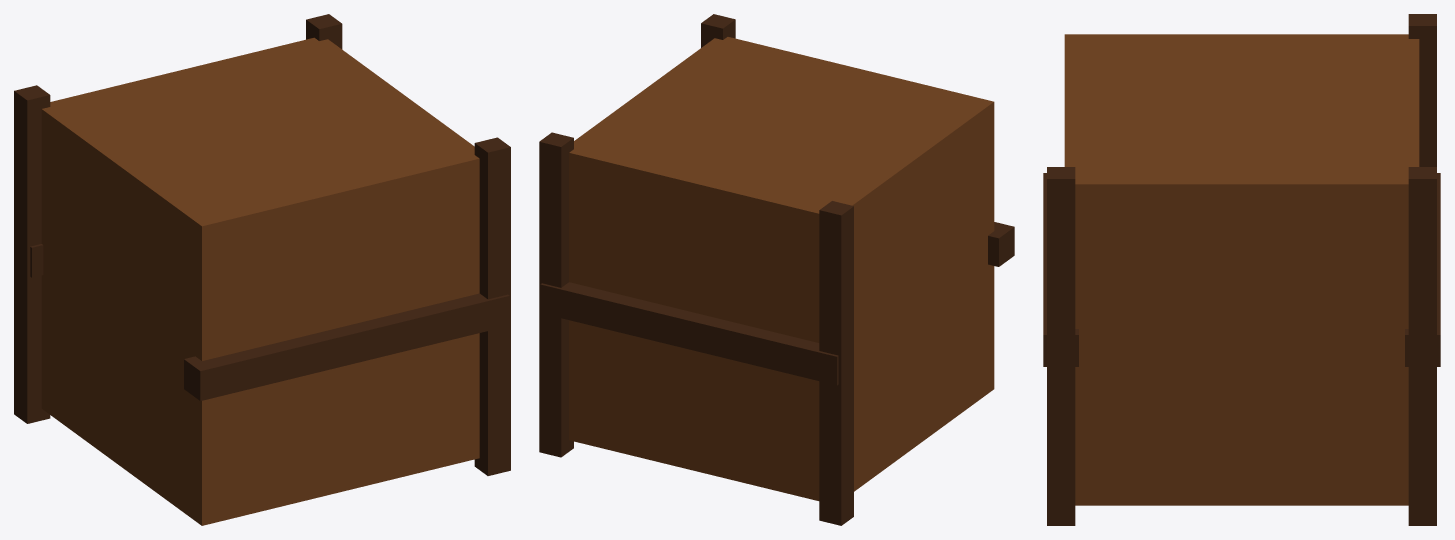
Rendered from crate.obj.
3 views of the same model, side by side, from view 1: azimuth 30°, elevation 25°; view 2: azimuth 150°, elevation 25°; view 3: azimuth 270°, elevation 25° (orthographic). The views are drawn at different scales.
Visible parts, largest first — view 1: geometry_0, geometry_1, geometry_3, geometry_8, geometry_6; view 2: geometry_0, geometry_2, geometry_8, geometry_6, geometry_1, geometry_3; view 3: geometry_0, geometry_3, geometry_6, geometry_8, geometry_1, geometry_2.
Boxes of the visible parts, x1,y1,x2,y2 form: geometry_0: [41, 37, 479, 525]; geometry_1: [184, 293, 509, 400]; geometry_3: [474, 137, 510, 475]; geometry_8: [14, 85, 50, 423]; geometry_6: [306, 14, 342, 49]; geometry_0: [569, 37, 994, 500]; geometry_2: [540, 282, 838, 385]; geometry_8: [819, 201, 853, 525]; geometry_6: [539, 132, 573, 457]; geometry_1: [988, 222, 1014, 266]; geometry_3: [701, 14, 735, 47]; geometry_0: [1064, 34, 1419, 505]; geometry_3: [1047, 167, 1075, 525]; geometry_6: [1408, 167, 1436, 525]; geometry_8: [1408, 14, 1436, 166]; geometry_1: [1043, 173, 1078, 366]; geometry_2: [1405, 173, 1440, 366].
Size of the model in its own units: 1.1 by 1.08 by 1.12.
